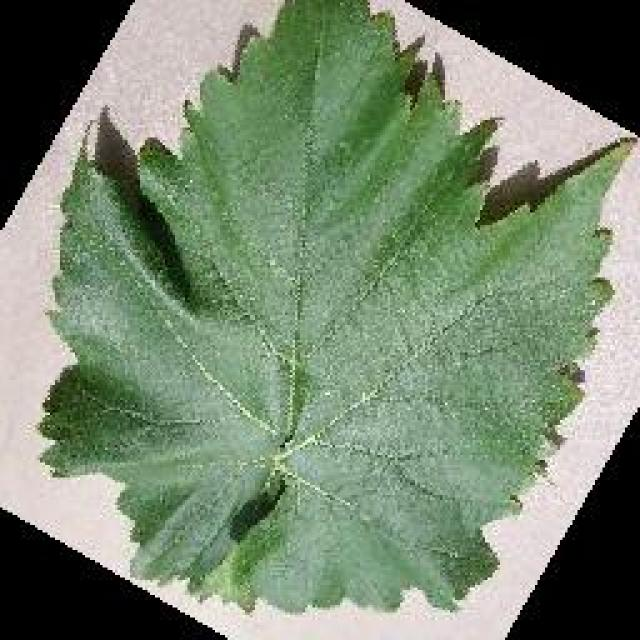Grape___healthy: (30, 0, 638, 620)
